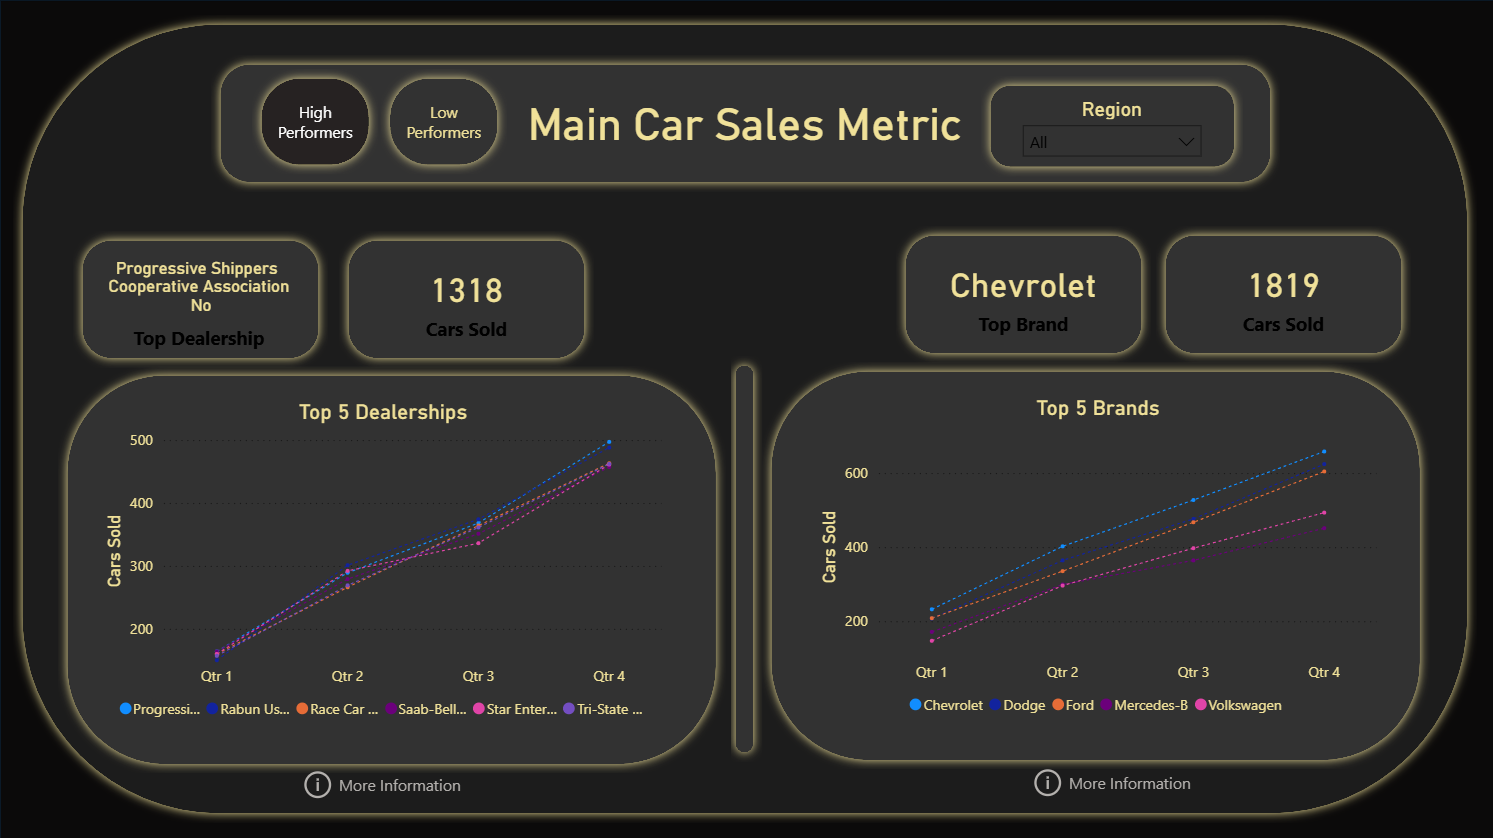

The page's visual inventory and layout, read from the dashboard file:
{"tool":"powerbi","page":{"name":"Main","canvas":[1280,720],"ordinal":0},"visuals":[{"type":"shape","title":"Final BG","box":[0,0,1280,719.8],"z":0},{"type":"shape","title":"Visual BG","box":[182,47.9,914,116.9],"z":0,"group":"g5"},{"type":"shape","title":"Visual BG","box":[767.3,193.7,218.1,116.9],"z":0,"group":"g1"},{"type":"shape","title":"Visual BG","box":[990,193.7,218.1,116.9],"z":0,"group":"g3"},{"type":"shape","title":"Visual BG","box":[63.9,198.1,218.1,116.9],"z":0,"group":"g4"},{"type":"shape","title":"Visual BG","box":[290.9,198.1,218.1,116.9],"z":0,"group":"g6"},{"type":"shape","title":"Separator","box":[622.2,304.7,31.5,347.2],"z":0,"group":"g2"},{"type":"shape","title":"Visual BG","box":[652.9,310.1,570.6,348.5],"z":0,"group":"g11"},{"type":"shape","title":"Visual BG","box":[51,313.1,570.6,348.5],"z":0,"group":"g8"},{"type":"actionButton","title":"More Information (Brand)","box":[877.9,650.1,151.2,38],"z":0,"group":"g7"},{"type":"shape","title":"Dashboard BG","box":[12.3,13.4,1251.7,690.9],"z":1000,"group":"g9"},{"type":"textbox","title":"Dashboard Title","box":[389.9,79.5,497.2,53.7],"z":1000,"group":"g5"},{"type":"group","id":"g1","title":"Top Brand (Brand)","box":[761.4,193.7,231.6,117.5],"z":1000,"group":"g2"},{"type":"card","fields":{"Values":["Min(Main Reference.Brand)"]},"box":[761.4,204.5,229.9,96.3],"z":1000,"group":"g1"},{"type":"card","fields":{"Values":["CountNonNull(Main Reference.Brand)"]},"box":[984.1,204.5,229.9,96.3],"z":1000,"group":"g3"},{"type":"card","fields":{"Values":["CountNonNull(Main Reference.Dealer_Name)"]},"box":[285,208.9,229.9,96.3],"z":1000,"group":"g6"},{"type":"card","fields":{"Values":["Min(Main Reference.Dealer_Name)"]},"box":[87.3,209.5,169.2,95.9],"z":1000,"group":"g4"},{"type":"lineChart","title":"Top 5 Brands","fields":{"Category":["Main Reference.Date.Variation.Date Hierarchy.Quarter","Main Reference.Date.Variation.Date Hierarchy.Month","Main Reference.Date.Variation.Date Hierarchy.Day"],"Y":["CountNonNull(Main Reference.Brand)"],"Series":["Main Reference.Brand"]},"box":[697.1,338.3,486.1,283.1],"z":1000,"group":"g11"},{"type":"lineChart","title":"Top 5 Dealerships","fields":{"Category":["Main Reference.Date.Variation.Date Hierarchy.Quarter","Main Reference.Date.Variation.Date Hierarchy.Month","Main Reference.Date.Variation.Date Hierarchy.Day"],"Y":["CountNonNull(Main Reference.Dealer_Name)"],"Series":["Main Reference.Dealer_Name"]},"box":[85.7,341.3,486.1,283.1],"z":1000,"group":"g8"},{"type":"actionButton","title":"More Information (Dealership)","box":[253.3,651.9,151.2,38],"z":1000,"group":"g7"},{"type":"shape","title":"Visual BG","box":[839.6,65.3,224.4,85.7],"z":2000,"group":"g10"},{"type":"group","id":"g2","title":"Top Performers","box":[51,193.7,1172.3,467.6],"z":2000,"group":"g9"},{"type":"group","id":"g3","title":"Cars Sold (Brand)","box":[984.1,193.7,230.5,117.5],"z":2000,"group":"g2"},{"type":"slicer","title":"Region","fields":{"Values":["Main Reference.Region"]},"box":[865.5,83.3,172.5,75.6],"z":3000,"group":"g10"},{"type":"group","id":"g4","title":"Top Brand (Dealership","box":[63.9,198.1,218.8,117.3],"z":3000,"group":"g2"},{"type":"group","id":"g5","title":"Dashboard Header","box":[182,47.9,914,116.9],"z":4000,"group":"g9"},{"type":"group","id":"g6","title":"Cars Sold (Dealership)","box":[285,198.1,230.1,117.3],"z":4000,"group":"g2"},{"type":"group","id":"g7","title":"Filters & DTs","box":[253.3,65.3,810.8,624.6],"z":4500,"group":"g9"},{"type":"bookmarkNavigator","box":[219.6,61.3,218.1,90.6],"z":5000,"group":"g9"},{"type":"group","id":"g8","title":"Dealership Graph","box":[51,313.1,570.5,348.2],"z":5000,"group":"g2"},{"type":"group","id":"g9","title":"Dashboard","box":[12.3,13.4,1251.7,690.9],"z":5001},{"type":"group","id":"g10","title":"Region Slicer","box":[839.6,65.3,224.5,93.2],"z":5001,"group":"g7"},{"type":"group","id":"g11","title":"Brand Graph","box":[652.9,310.1,570.5,348.2],"z":6000,"group":"g2"}]}

Visuals, with their boxes in screenshot pixels (x1, y1, x2, y2), scaled from the page's 1280x720 canvas onto the 1493x838 screenshot:
"Final BG" shape: 0/0/1492/837
"Visual BG" shape: 212/56/1278/192
"Visual BG" shape: 895/225/1149/362
"Visual BG" shape: 1155/225/1409/362
"Visual BG" shape: 75/231/329/367
"Visual BG" shape: 339/231/594/367
"Separator" shape: 726/355/762/759
"Visual BG" shape: 762/361/1427/767
"Visual BG" shape: 59/364/725/770
"More Information (Brand)" actionButton: 1024/757/1200/801
"Dashboard BG" shape: 14/16/1474/820
"Dashboard Title" textbox: 455/93/1035/155
"Top Brand (Brand)" group: 888/225/1158/362
card - Min(Main Reference.Brand): 888/238/1156/350
card - CountNonNull(Main Reference.Brand): 1148/238/1416/350
card - CountNonNull(Main Reference.Dealer_Name): 332/243/601/355
card - Min(Main Reference.Dealer_Name): 102/244/299/355
"Top 5 Brands" lineChart: 813/394/1380/723
"Top 5 Dealerships" lineChart: 100/397/667/727
"More Information (Dealership)" actionButton: 295/759/472/803
"Visual BG" shape: 979/76/1241/176
"Top Performers" group: 59/225/1427/770
"Cars Sold (Brand)" group: 1148/225/1417/362
"Region" slicer: 1010/97/1211/185
"Top Brand (Dealership" group: 75/231/330/367
"Dashboard Header" group: 212/56/1278/192
"Cars Sold (Dealership)" group: 332/231/601/367
"Filters & DTs" group: 295/76/1241/803
bookmarkNavigator: 256/71/511/177
"Dealership Graph" group: 59/364/725/770
"Dashboard" group: 14/16/1474/820
"Region Slicer" group: 979/76/1241/184
"Brand Graph" group: 762/361/1427/766
